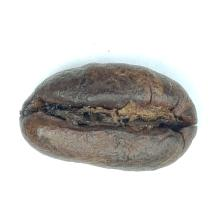NG: (20, 69, 185, 152)
